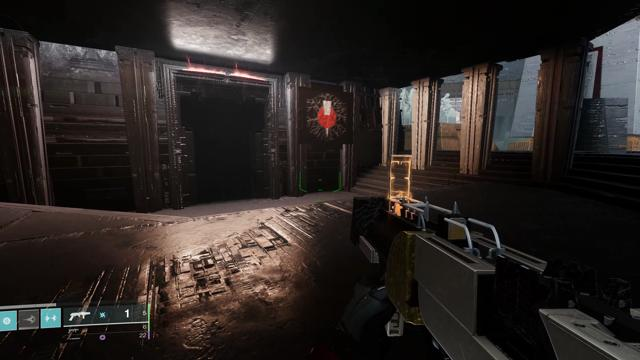kill: (306, 93, 347, 142)
